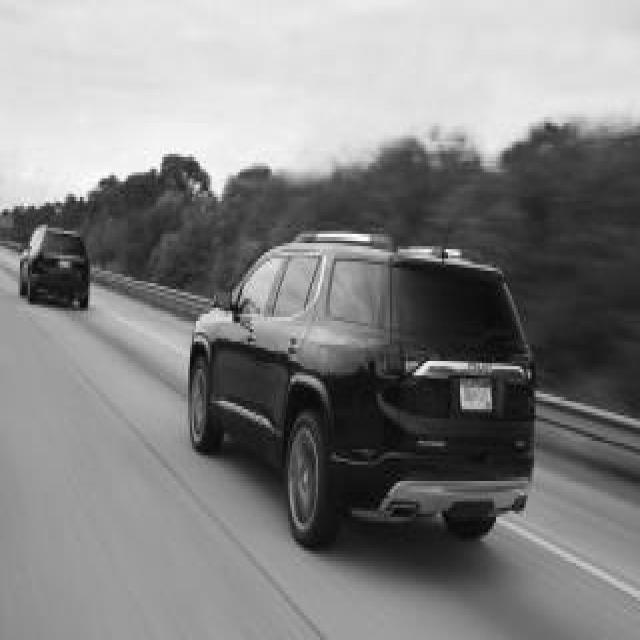Car: (190, 233, 535, 545)
